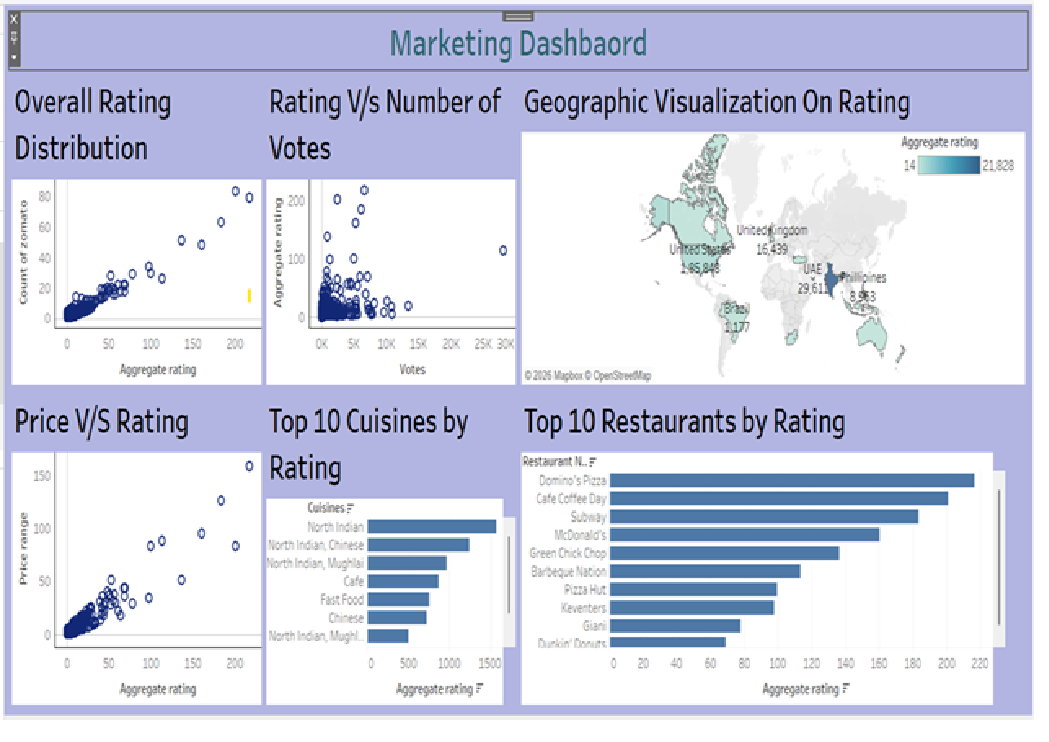

The page's visual inventory and layout, read from the dashboard file:
{"tool":"tableau","page":{"name":"Dashboard 2","canvas":[1000,1000],"units":"permille","ordinal":1},"visuals":[{"type":"title","box":[4.9,10,990.3,78.6]},{"type":"worksheet","title":"Overall Rating Distribution","mark":"Automatic","rows":["zomato_74035155C5C7461B84B69468701762D7"],"cols":["Aggregate rating"],"box":[4.9,88.5,247.6,450.7]},{"type":"worksheet","title":"Rating v/s No of Votes","mark":"Automatic","rows":["Aggregate rating"],"cols":["Votes"],"box":[252.4,88.5,247.6,450.7]},{"type":"worksheet","title":"Geographic Visualizaion","mark":"Automatic","box":[500,88.5,495.2,450.7]},{"type":"legend","title":"Geographic Visualizaion","param":"[federated.137aioo0g5kvhy1h1qhgw03e204y].[sum:Aggregate rating:qk]","box":[872.1,179.6,112.1,87.3]},{"type":"worksheet","title":"Price V/s Rating","mark":"Automatic","rows":["Price range"],"cols":["Aggregate rating"],"box":[4.9,539.3,247.6,450.8]},{"type":"worksheet","title":"Top 10 Cuisines","mark":"Automatic","rows":["Cuisines"],"cols":["Aggregate rating"],"box":[252.4,539.3,247.6,450.8]},{"type":"worksheet","title":"Top 10 Restaurants","mark":"Automatic","rows":["Restaurant Name"],"cols":["Aggregate rating"],"box":[500,539.3,475.8,450.8]}]}

Visuals, with their boxes on the dashboard's canvas, which has no fixed pixel size, in thousandths of its width and height (x1, y1, x2, y2). These are canvas units, not pixel positions in the 1049x742 screenshot, which may show the page scaled, cropped or inside an application window:
title: region(5, 10, 995, 89)
"Overall Rating Distribution" worksheet: region(5, 88, 252, 539)
"Rating v/s No of Votes" worksheet: region(252, 88, 500, 539)
"Geographic Visualizaion" worksheet: region(500, 88, 995, 539)
"Geographic Visualizaion" legend: region(872, 180, 984, 267)
"Price V/s Rating" worksheet: region(5, 539, 252, 990)
"Top 10 Cuisines" worksheet: region(252, 539, 500, 990)
"Top 10 Restaurants" worksheet: region(500, 539, 976, 990)
